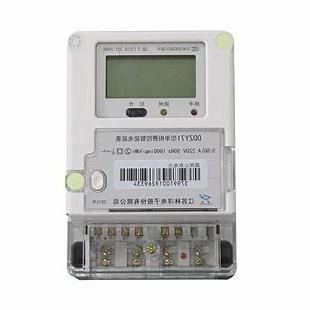digital: (68, 30, 236, 220)
